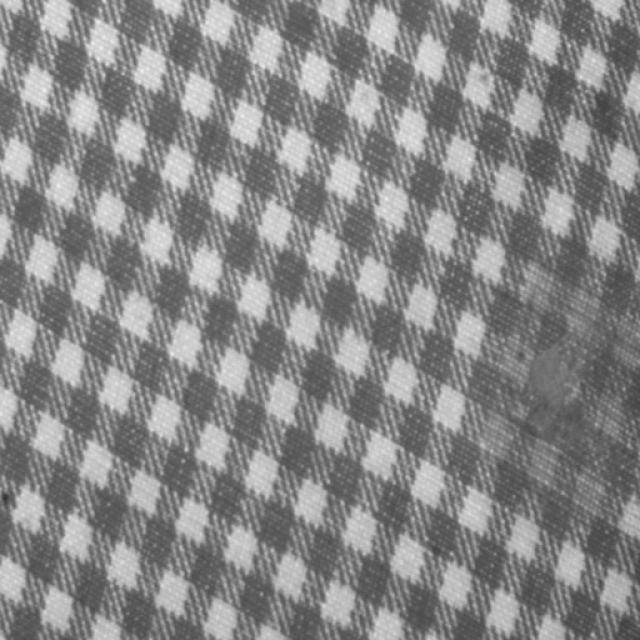Stain-Defect: (486, 266, 639, 519)
